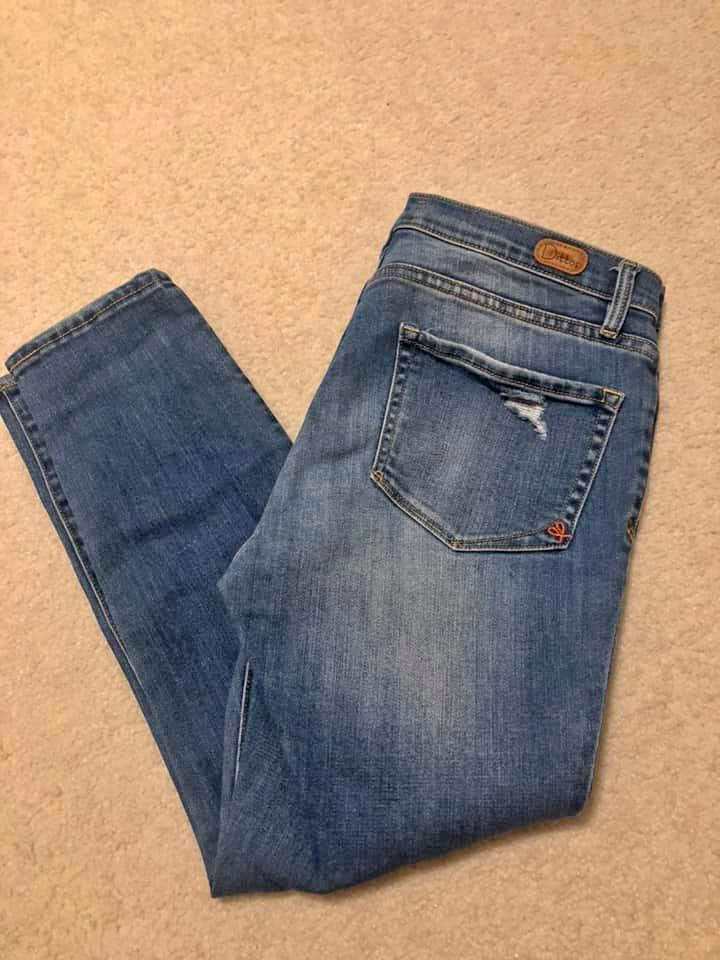Jeans: (0, 179, 674, 914)
